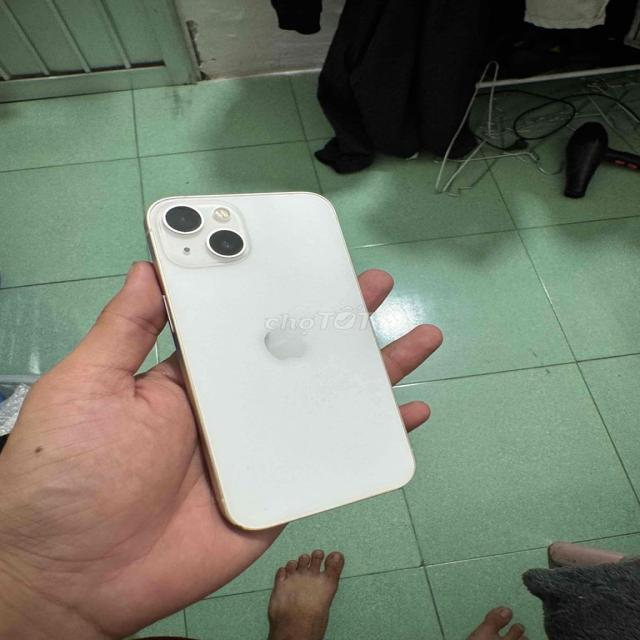gen_12_13: (135, 184, 420, 541)
